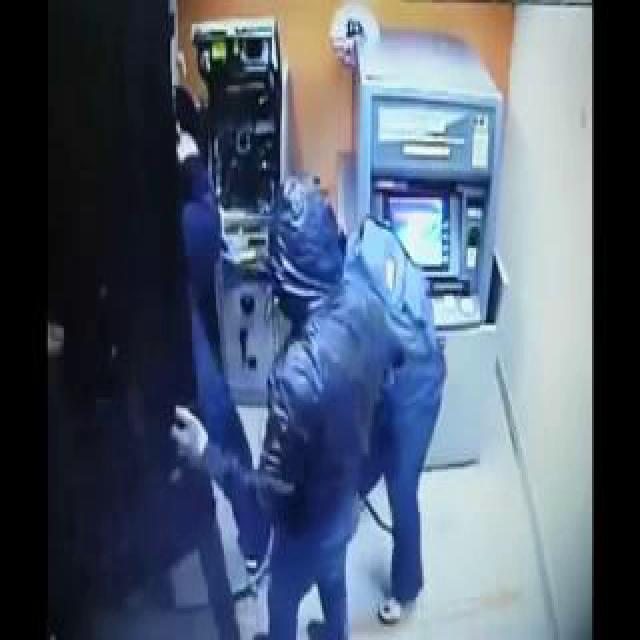burglary: (115, 72, 488, 614)
